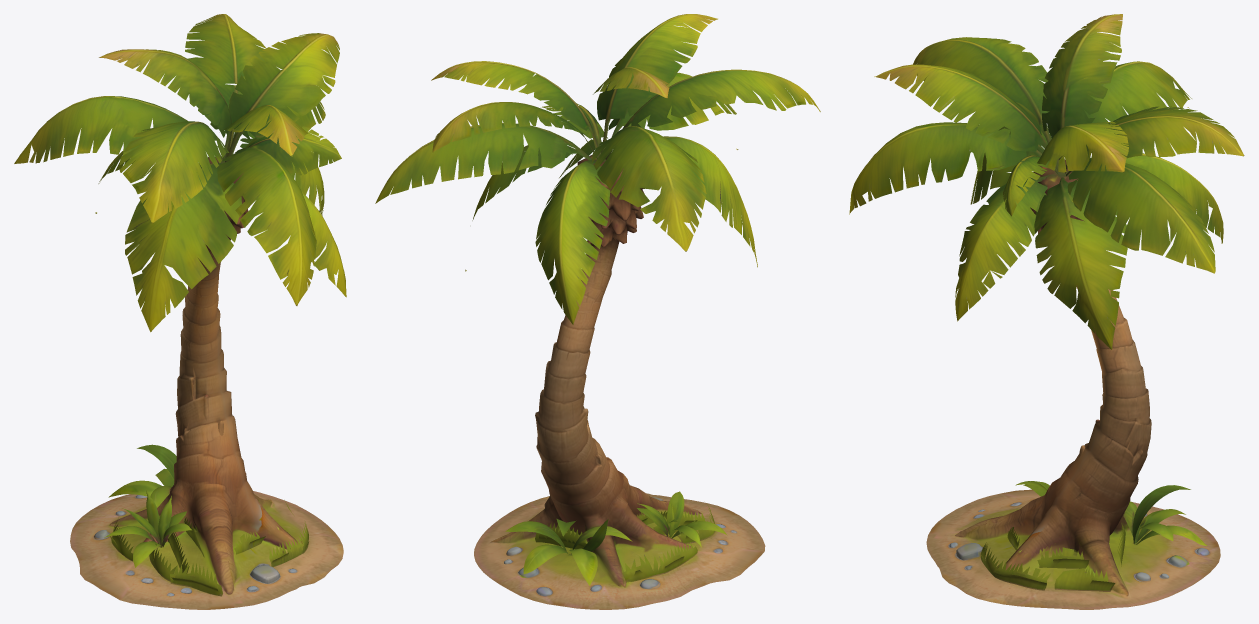
Rendered from tree_palm.glb.
3 renders of one model, left to right at view 1: azimuth 30°, elevation 25°; view 2: azimuth 150°, elevation 25°; view 3: azimuth 270°, elevation 25°, orthographic. The views are drawn at different scales.
Parts seen in each view (by area): view 1: tripo_49429768_2561_4678_a498_5e9630dcb857; view 2: tripo_49429768_2561_4678_a498_5e9630dcb857; view 3: tripo_49429768_2561_4678_a498_5e9630dcb857.
Part boxes in pixels (<box>): tripo_49429768_2561_4678_a498_5e9630dcb857: <box>14,14,346,609</box>; tripo_49429768_2561_4678_a498_5e9630dcb857: <box>375,14,820,609</box>; tripo_49429768_2561_4678_a498_5e9630dcb857: <box>849,14,1244,609</box>.
Bounding box in the file's own units: 0.6313 × 0.9995 × 0.7056.
Materials: 1 (1 with a texture image).
